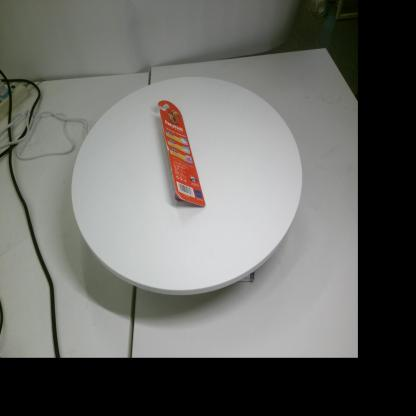Personal Hygiene: (158, 100, 206, 207)
